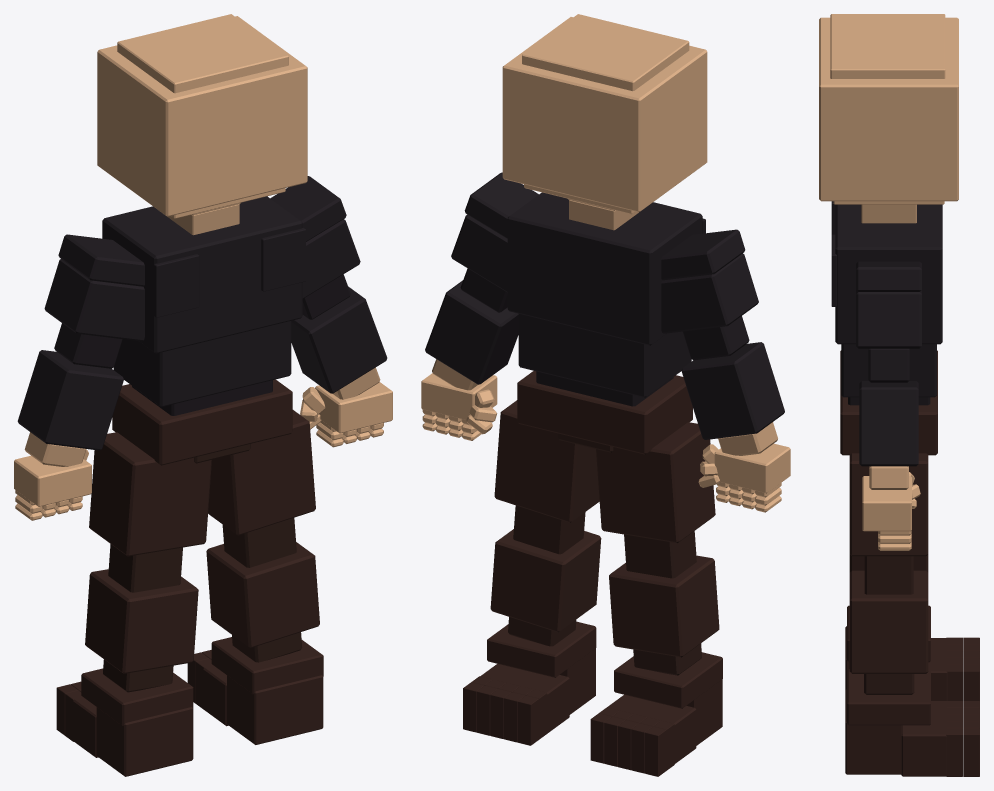
The model's file is npc_barba_negra.glb.
3 renders of one model, left to right at view 1: azimuth 30°, elevation 25°; view 2: azimuth 150°, elevation 25°; view 3: azimuth 270°, elevation 25°, orthographic. The views are drawn at different scales.
Parts seen in each view (by area): view 1: Geo_Head_Runtime, Geo_Chest_Runtime, Geo_Thigh_L_Runtime, Geo_Abdomen_Runtime, Geo_Shin_L_Runtime, Geo_Pelvis_Runtime, Geo_Shin_R_Runtime, Geo_Thigh_R_Runtime, Geo_HeadTop_Runtime, Geo_ForeArm_L_Runtime, Geo_ForeArm_R_Runtime, Geo_UpperArm_L_Runtime (+23 smaller); view 2: Geo_Head_Runtime, Geo_Chest_Runtime, Geo_Thigh_L_Runtime, Geo_Abdomen_Runtime, Geo_Shin_L_Runtime, Geo_Pelvis_Runtime, Geo_Shin_R_Runtime, Geo_Thigh_R_Runtime, Geo_HeadTop_Runtime, Geo_ForeArm_L_Runtime, Geo_ForeArm_R_Runtime, Geo_UpperArm_L_Runtime (+31 smaller); view 3: Geo_Head_Runtime, Geo_Chest_Runtime, Geo_HeadTop_Runtime, Geo_Shin_R_Runtime, Geo_ForeArm_R_Runtime, Geo_UpperArm_R_Runtime, Geo_Thigh_R_Runtime, Geo_AnkleCuff_R_Runtime, Geo_Heel_R_Runtime, Geo_Foot_R_Runtime, Geo_Abdomen_Runtime, Geo_Pelvis_Runtime (+17 smaller).
Part boxes in pixels (x1,y1,x2,y2): Geo_Head_Runtime: (97,16,307,216); Geo_Chest_Runtime: (102,196,302,353); Geo_Thigh_L_Runtime: (89,432,211,556); Geo_Abdomen_Runtime: (113,321,291,407); Geo_Shin_L_Runtime: (85,569,198,673); Geo_Pelvis_Runtime: (112,379,292,465); Geo_Shin_R_Runtime: (206,542,319,647); Geo_Thigh_R_Runtime: (208,410,315,535); Geo_HeadTop_Runtime: (117,14,288,93); Geo_ForeArm_L_Runtime: (17,350,123,450); Geo_ForeArm_R_Runtime: (291,286,387,393); Geo_UpperArm_L_Runtime: (44,259,144,341); Geo_Head_Runtime: (502,17,707,212); Geo_Chest_Runtime: (507,192,702,345); Geo_Thigh_L_Runtime: (596,422,715,543); Geo_Abdomen_Runtime: (518,314,691,397); Geo_Shin_L_Runtime: (609,555,719,657); Geo_Pelvis_Runtime: (517,371,692,454); Geo_Shin_R_Runtime: (490,529,601,632); Geo_Thigh_R_Runtime: (494,400,599,522); Geo_HeadTop_Runtime: (522,14,689,91); Geo_ForeArm_L_Runtime: (681,342,784,439); Geo_ForeArm_R_Runtime: (425,280,518,384); Geo_UpperArm_L_Runtime: (661,253,758,333); Geo_Head_Runtime: (819,17,958,201); Geo_Chest_Runtime: (835,204,942,344); Geo_HeadTop_Runtime: (830,14,945,78); Geo_Shin_R_Runtime: (849,570,928,673); Geo_ForeArm_R_Runtime: (859,381,918,466); Geo_UpperArm_R_Runtime: (856,290,921,348); Geo_Thigh_R_Runtime: (849,453,928,556); Geo_AnkleCuff_R_Runtime: (847,669,930,725); Geo_Heel_R_Runtime: (845,689,902,774); Geo_Foot_R_Runtime: (901,701,946,776); Geo_Abdomen_Runtime: (841,344,936,397); Geo_Pelvis_Runtime: (840,350,937,455).
Size of the model in its own units: 1.07 by 1.98 by 0.4192.
